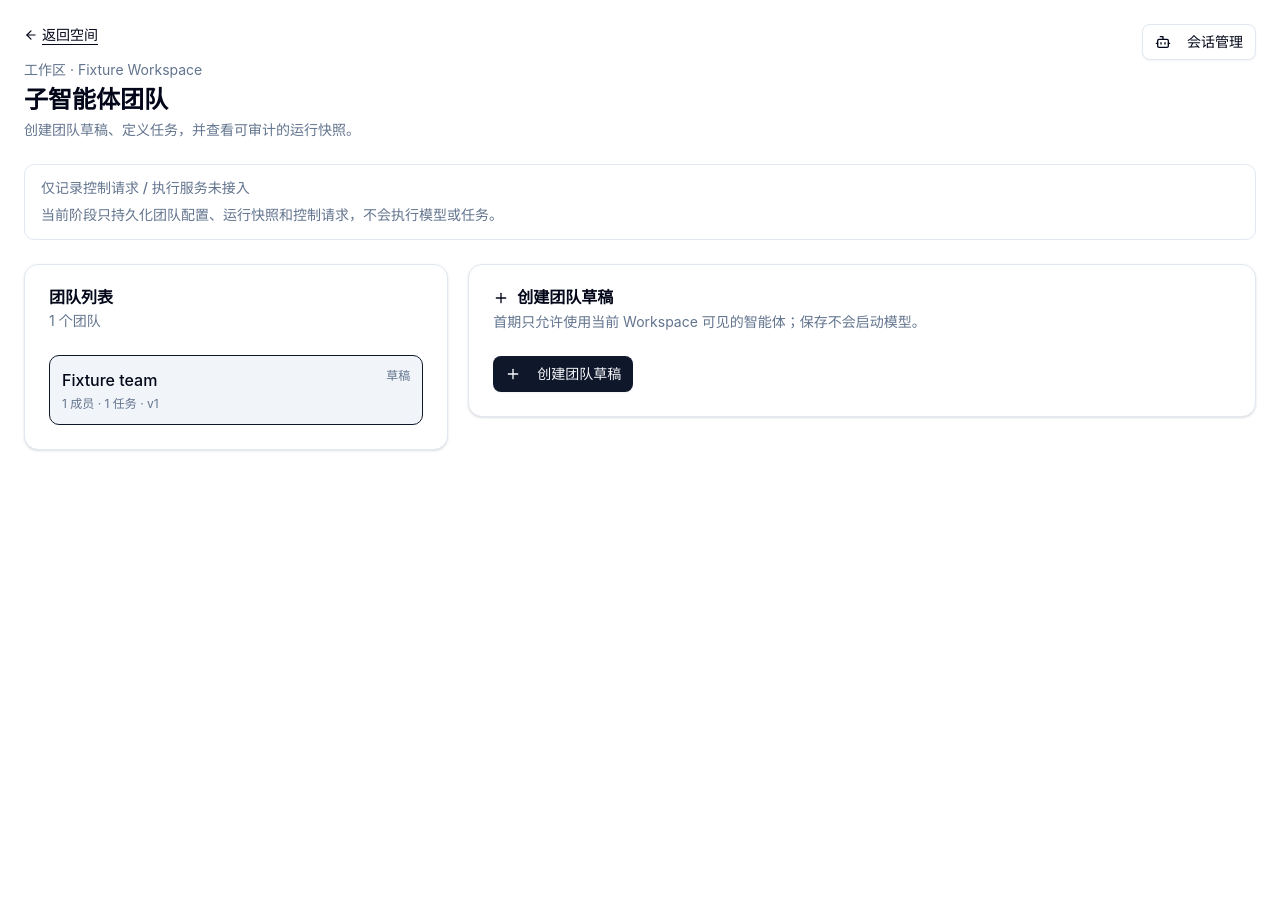
it: F27b team control UI with fixture APIs › recovers an agent-list error and requires an explicit agent before creating a draft
Step 1. Click the button "创建团队草稿" → point(563, 374), box [493,356,633,392]
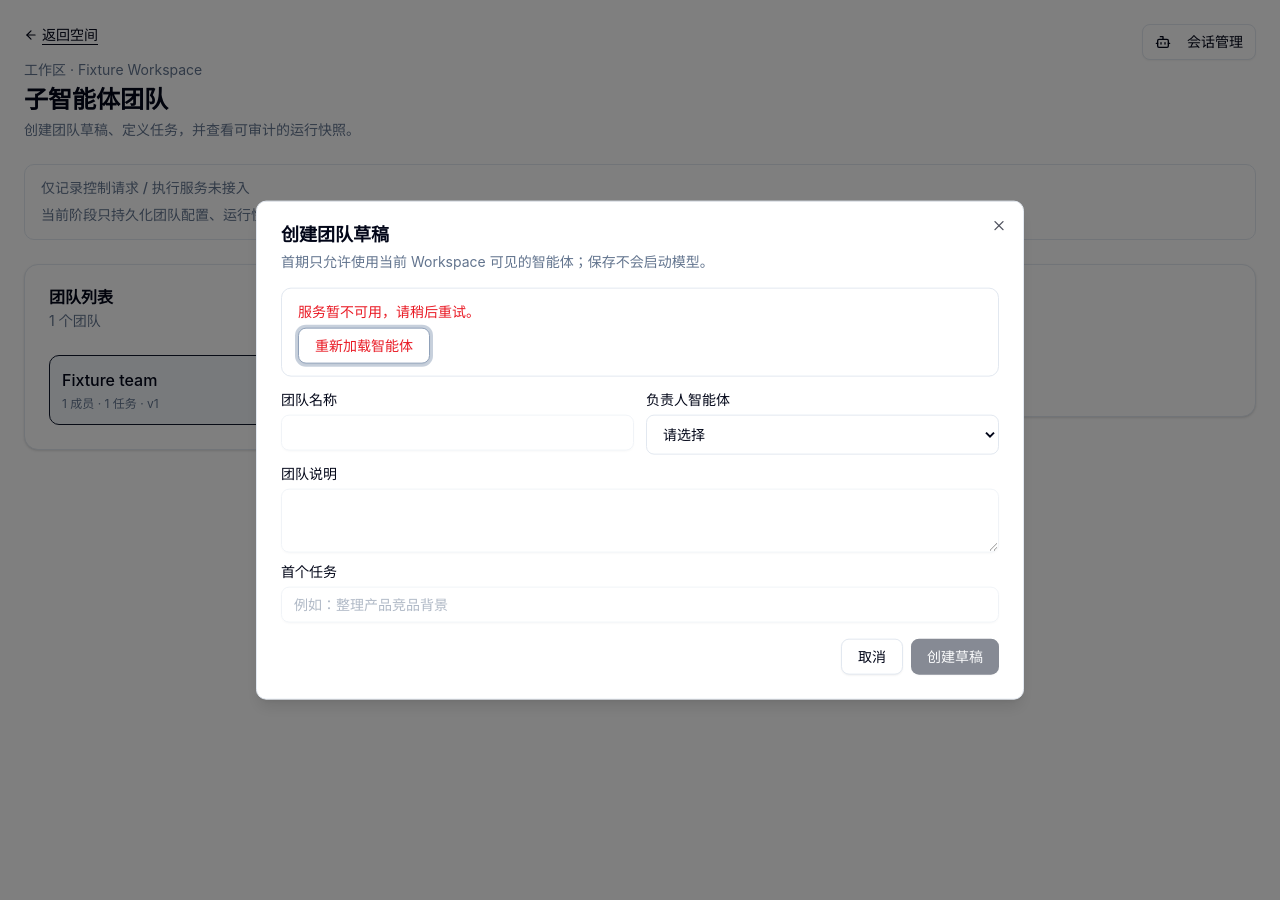
expect the button "创建草稿" is disabled: met, box [911,638,999,674]
expect the message shows "服务暂不可用，请稍后重试。": met, box [298,303,480,320]
Step 2. Click the button "重新加载智能体" → point(364, 345), box [298,327,430,363]
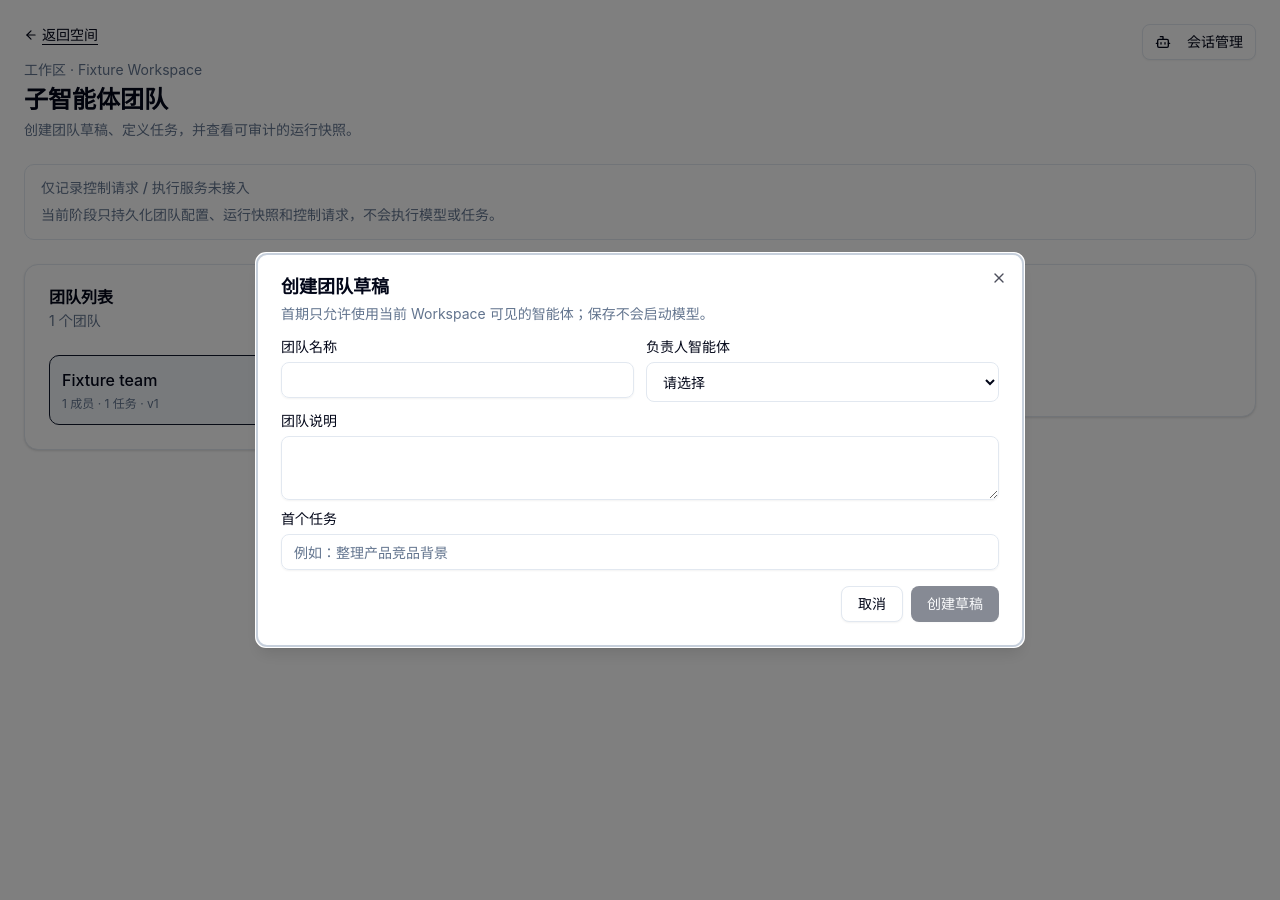
Step 3. Type "New fixture team" into the field labelled "团队名称" → point(458, 380), box [281,362,634,398]
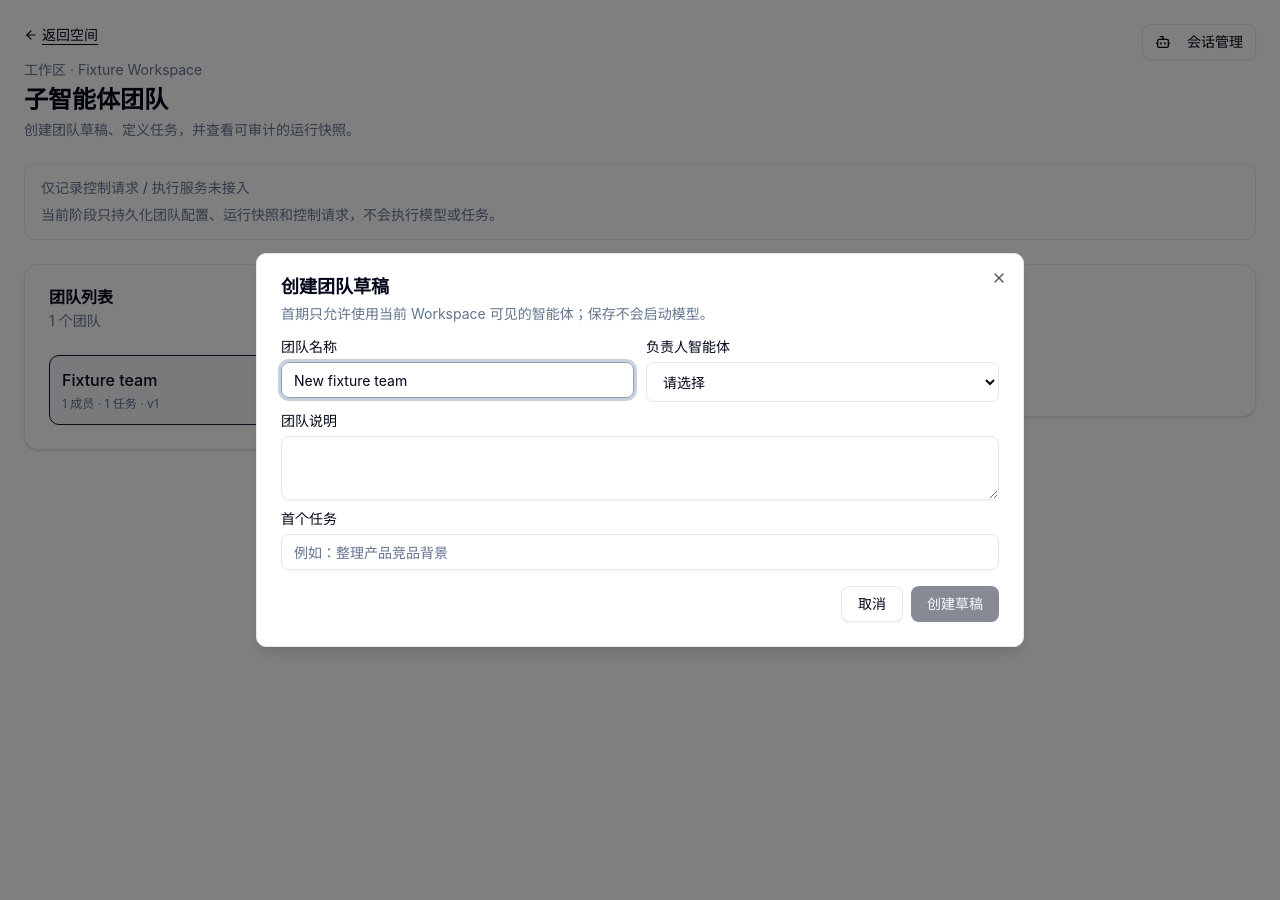
Step 4. Type "New fixture task" into the field labelled "首个任务" → point(640, 552), box [281,534,999,570]
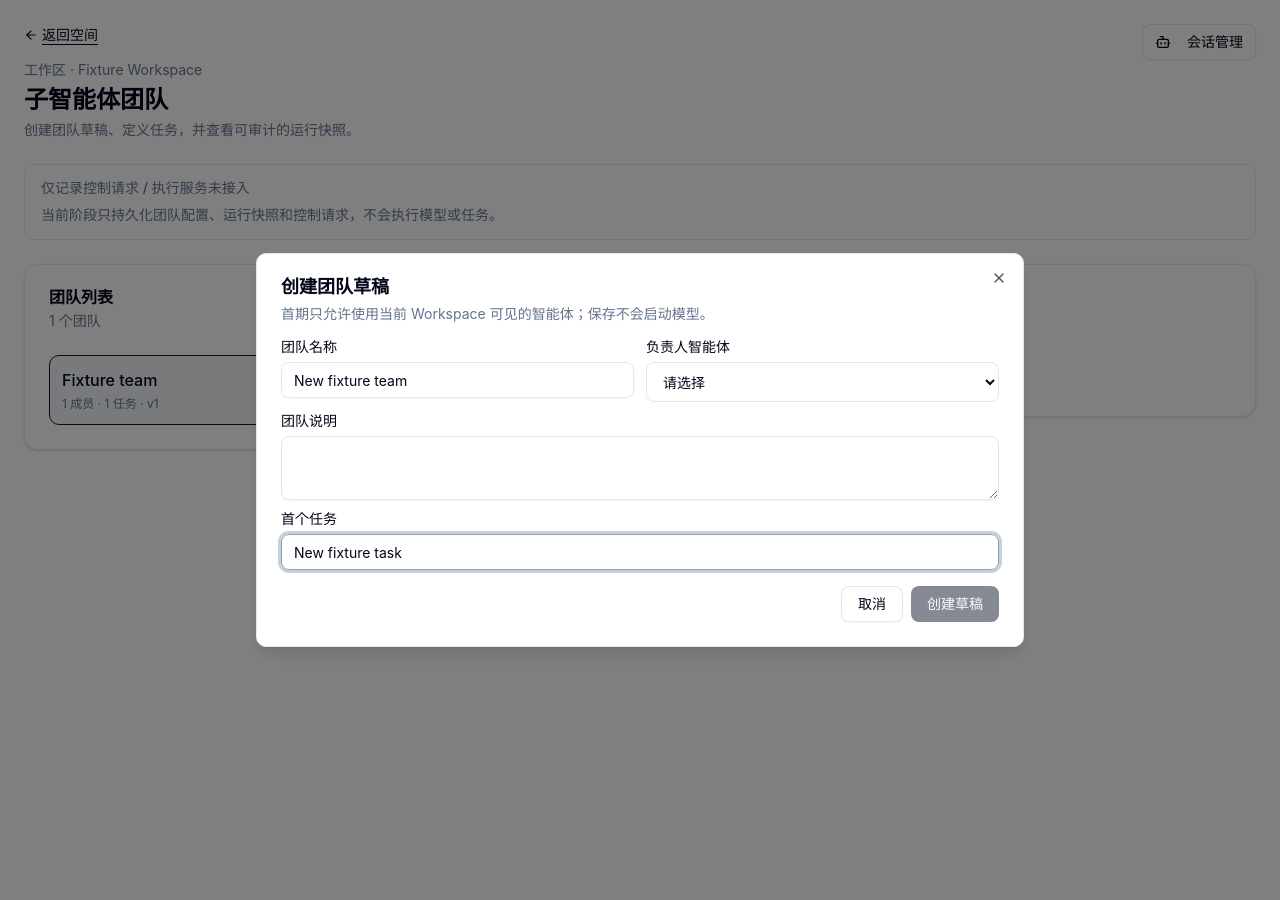
expect the button "创建草稿" is disabled: met, box [911,586,999,622]
Step 5. Select "Fixture agent" in the dropdown labelled "负责人智能体" → point(822, 382), box [646,362,999,402]
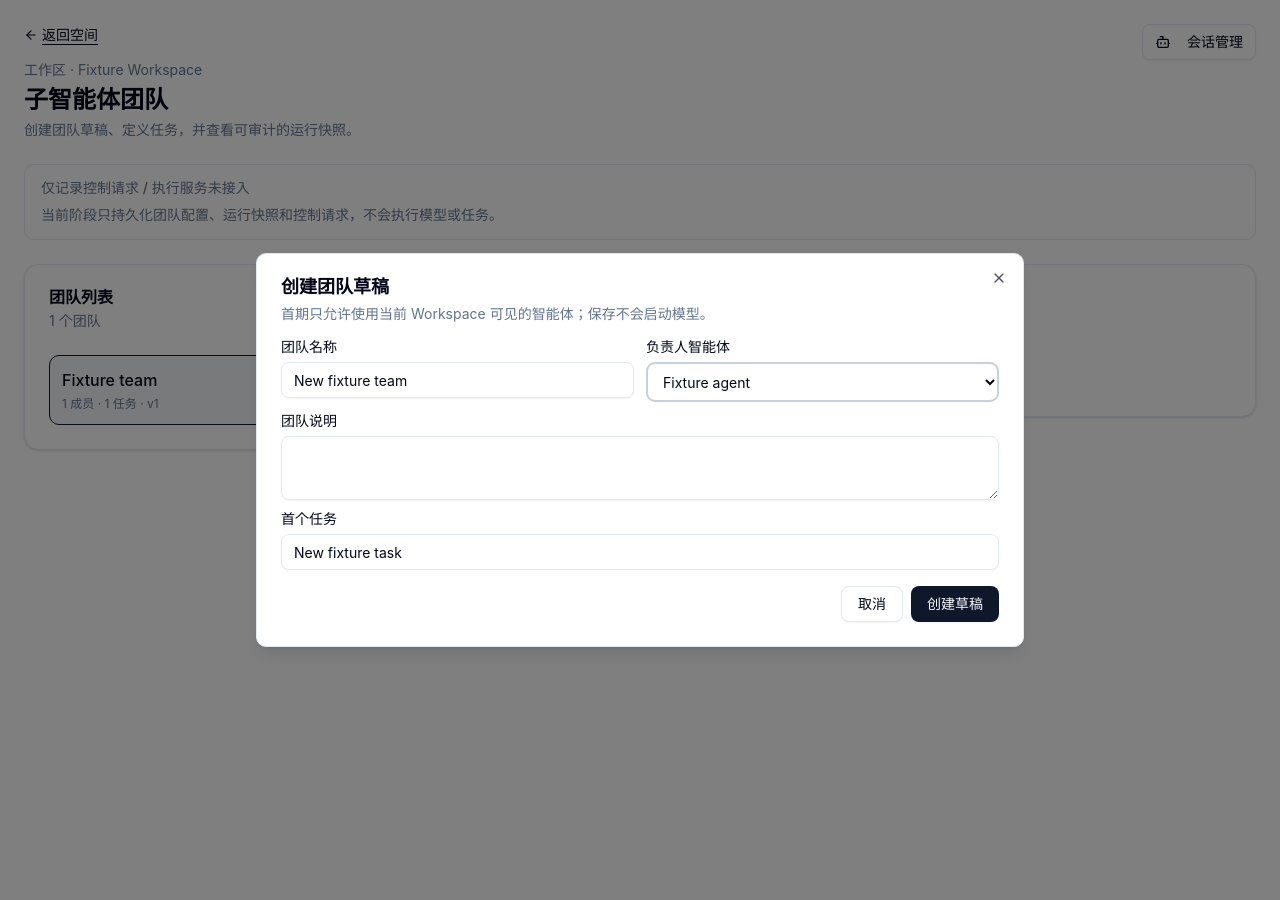
Step 6. Click the button "创建草稿" → point(955, 604), box [911,586,999,622]
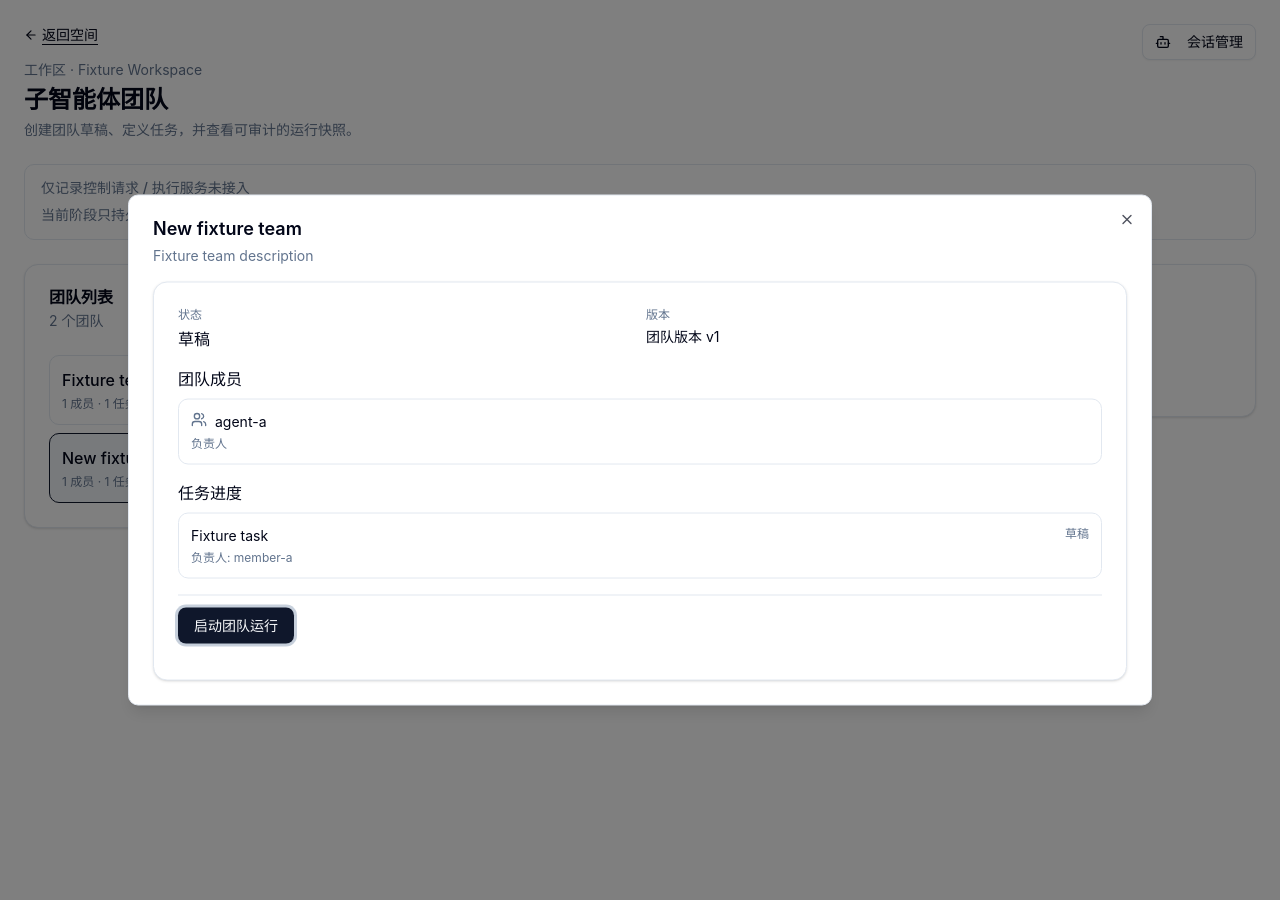
expect the dialog shows "New fixture team": met, box [153,218,302,238]
